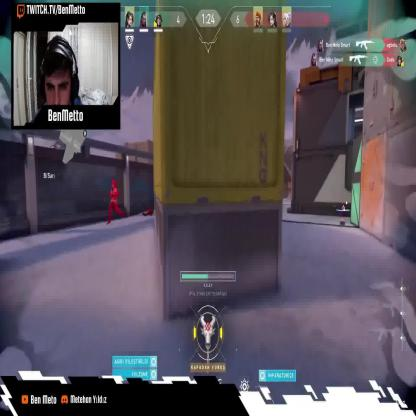enemy: (106, 178, 125, 225)
enemy_head: (111, 180, 116, 189)
